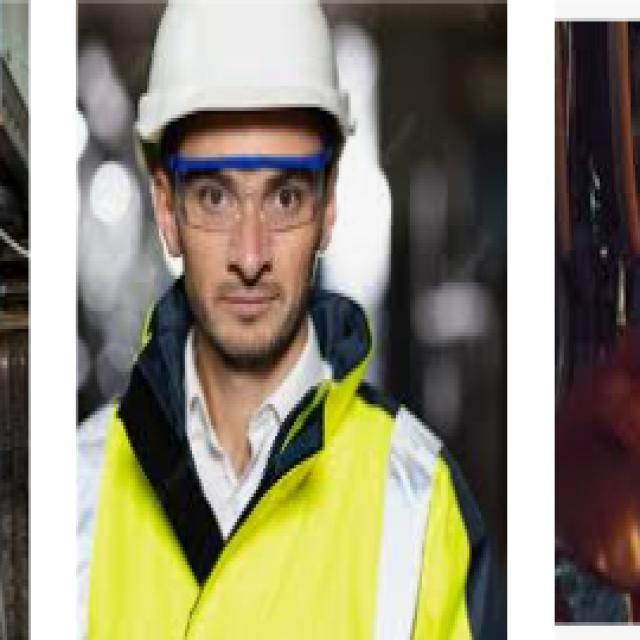glasses: (156, 146, 352, 240)
